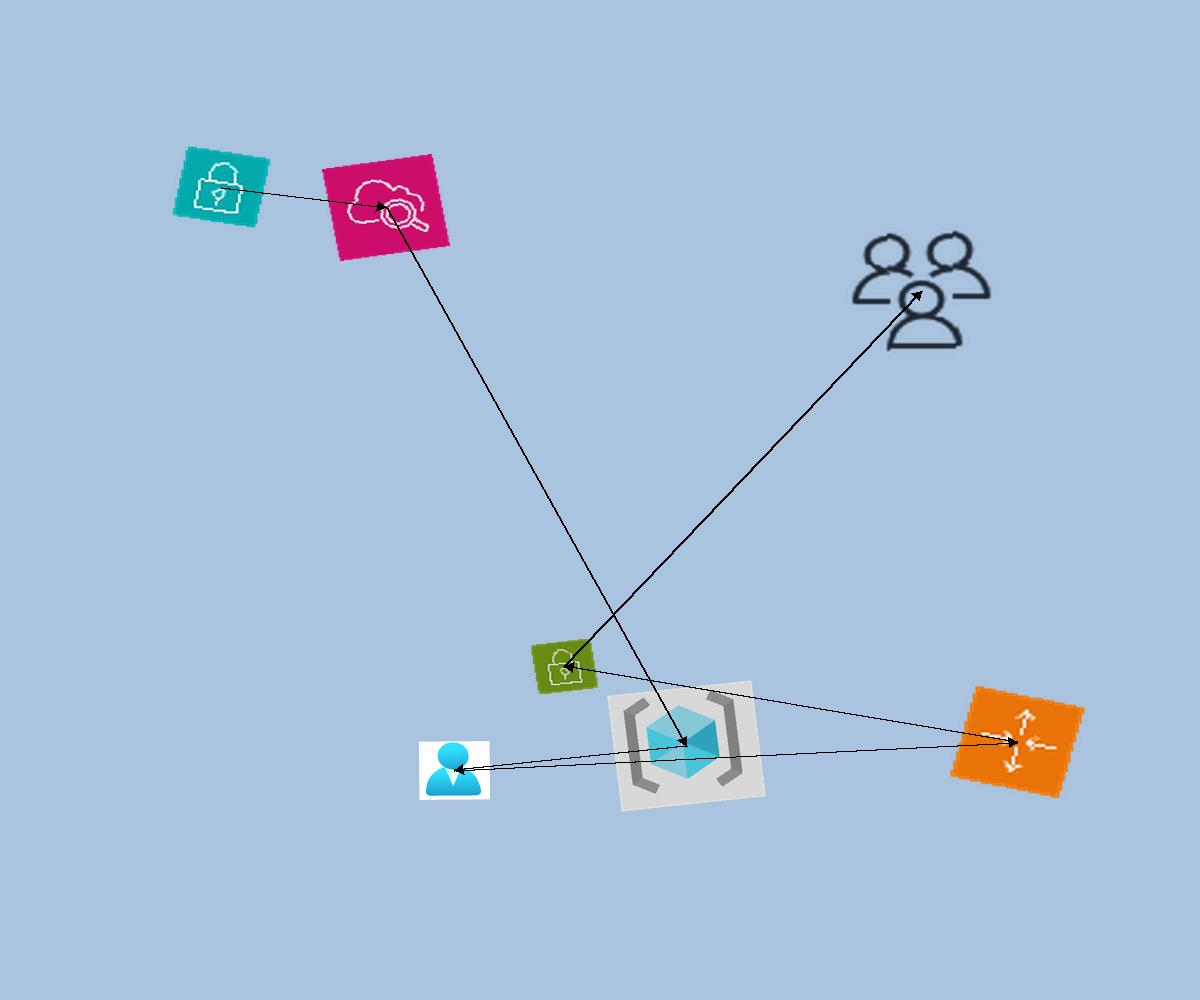AWS-CloudWatch: (322, 154, 450, 261)
AWS-Private-subnet: (171, 145, 272, 229)
AWS-Public-subnet: (530, 638, 599, 695)
AWS-Res_Users: (840, 223, 1003, 359)
AWS-Scaling-group: (948, 684, 1087, 800)
Azure_resource_group: (607, 680, 766, 812)
Azure_users: (419, 741, 490, 800)
